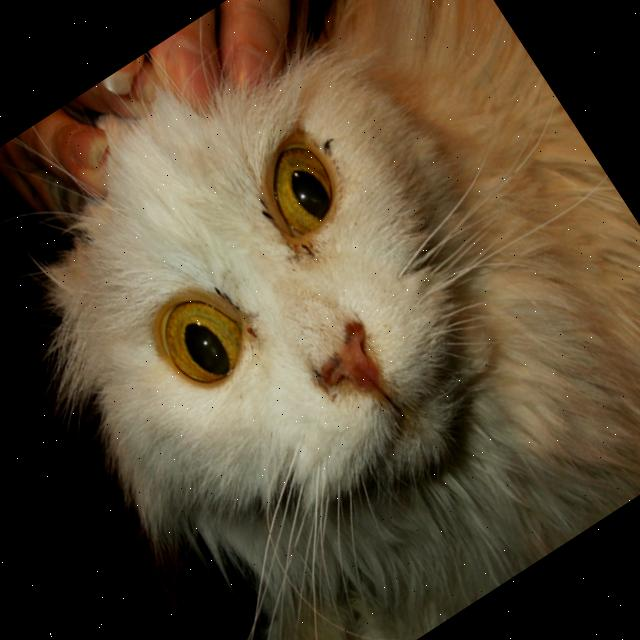cat-eye: (117, 247, 281, 418), (228, 102, 380, 266)
